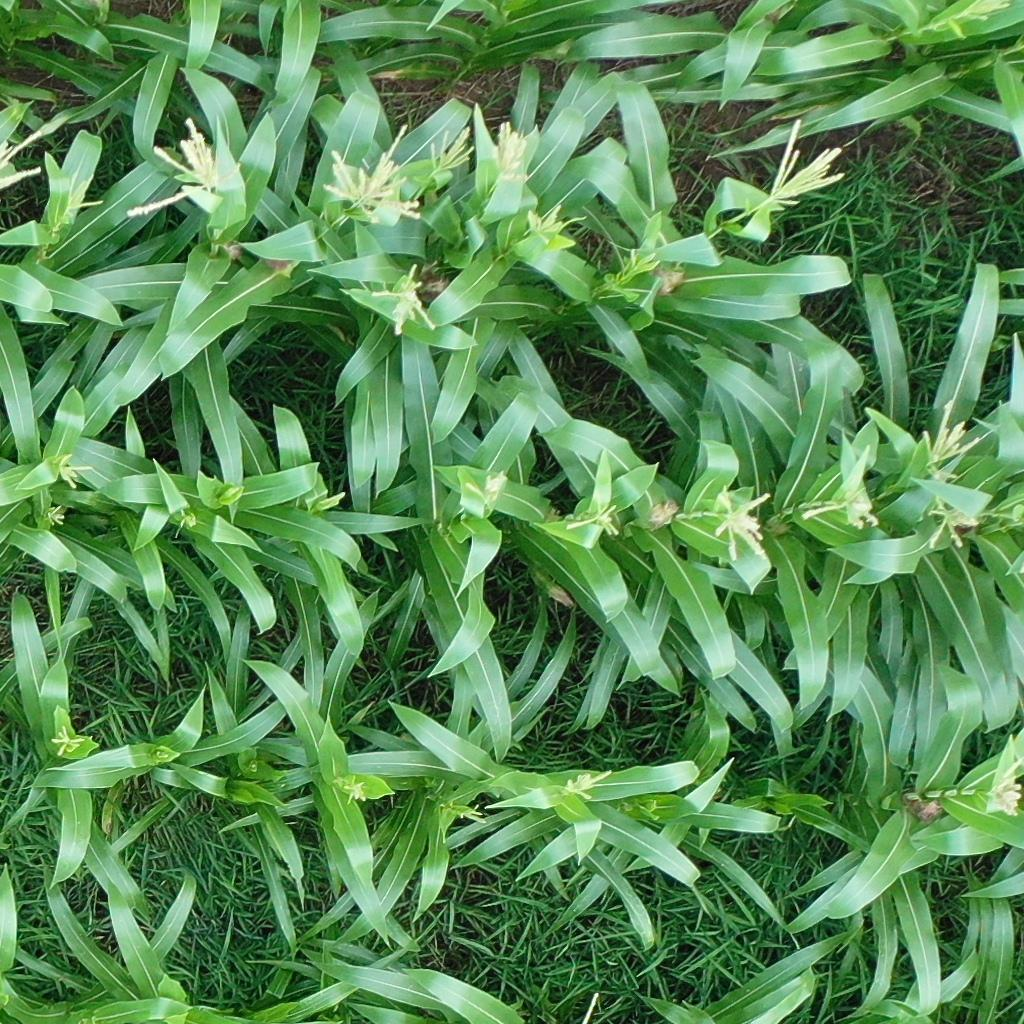Tassel: (320, 118, 426, 227), (126, 116, 226, 225), (753, 112, 849, 209), (365, 263, 440, 337), (913, 397, 980, 472), (706, 486, 767, 567), (803, 485, 881, 535), (937, 1, 1014, 46), (926, 496, 986, 553), (1, 128, 51, 196), (522, 200, 578, 252), (486, 124, 530, 189), (565, 501, 626, 545), (424, 125, 477, 175), (61, 170, 107, 214), (991, 756, 1024, 815), (619, 244, 661, 290), (467, 470, 512, 510), (55, 454, 95, 491), (568, 765, 611, 799), (337, 769, 373, 805), (51, 723, 82, 759), (454, 796, 488, 828), (44, 502, 67, 537), (175, 510, 200, 531)
